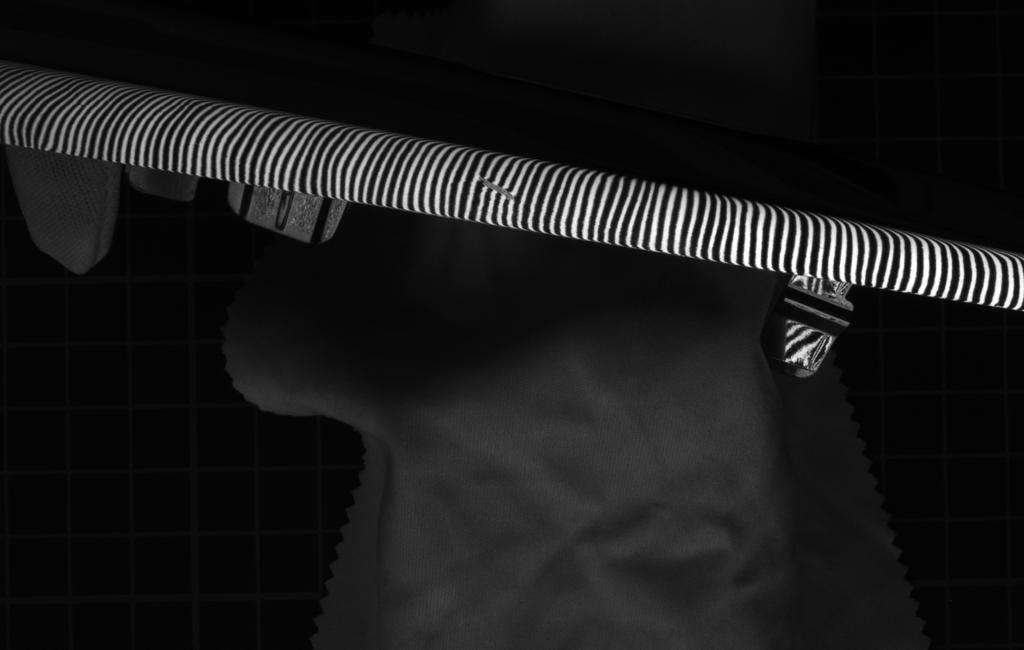Scratch: (471, 174, 529, 211)
